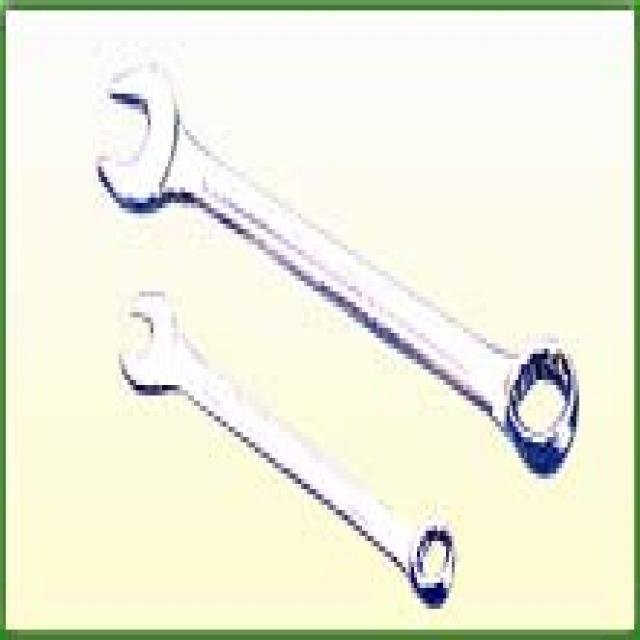wrench: (92, 58, 590, 480), (117, 284, 461, 616)
